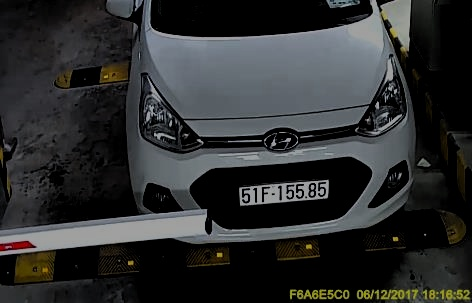plate: (232, 177, 335, 209)
